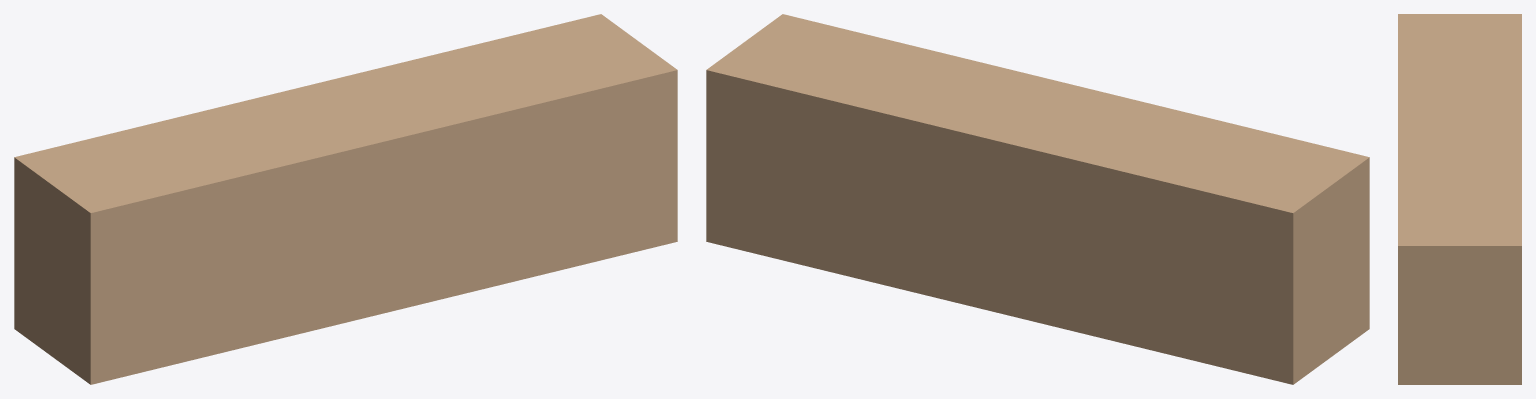
Rendered from media_console_02.glb.
3 renders of one model, left to right at view 1: azimuth 30°, elevation 25°; view 2: azimuth 150°, elevation 25°; view 3: azimuth 270°, elevation 25°, orthographic. The views are drawn at different scales.
Bounding box in the file's own units: 1.86 × 0.52 × 0.42.
